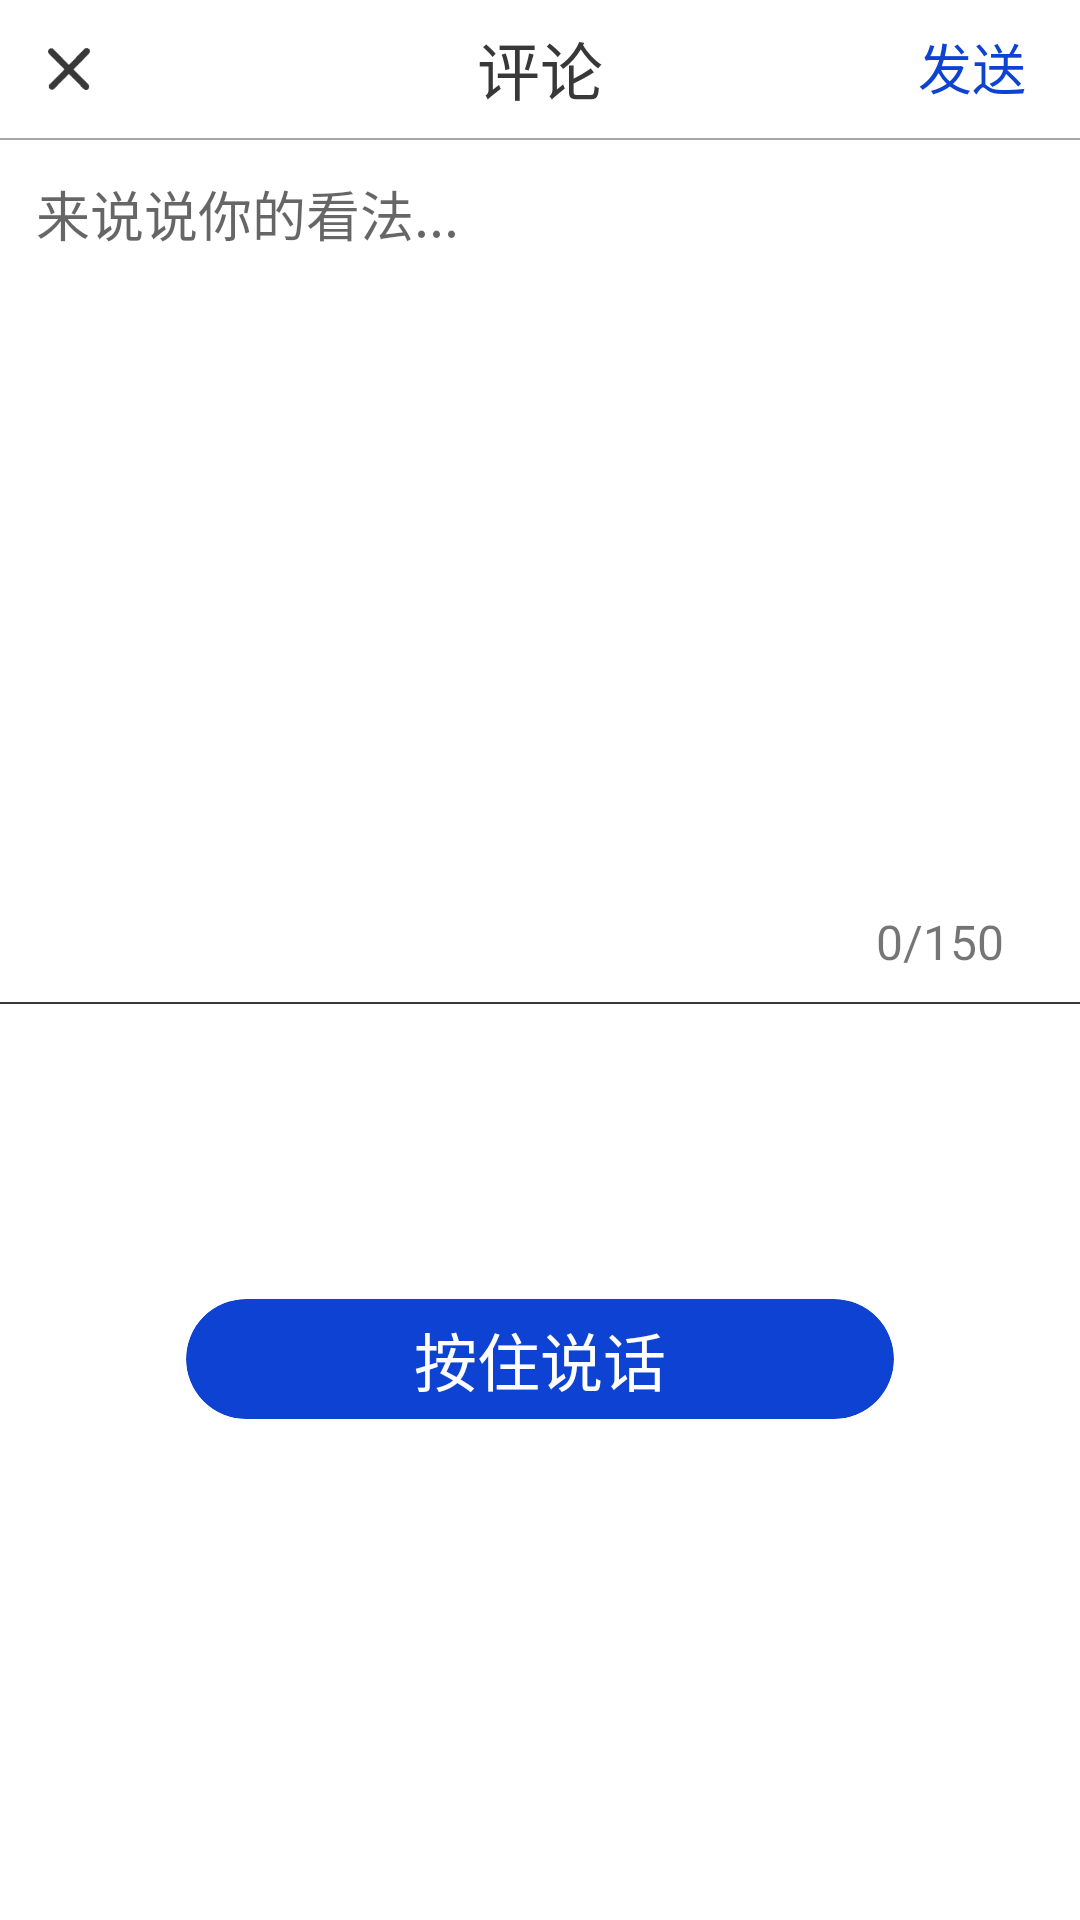

Locate icon controls on the screen. Image size 1080*1920, boxes as (x1, y1, x2, y2).
cross: (48, 48, 90, 90)
